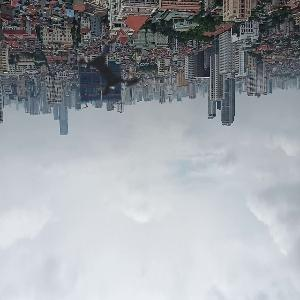drone: (43, 2, 181, 140)
